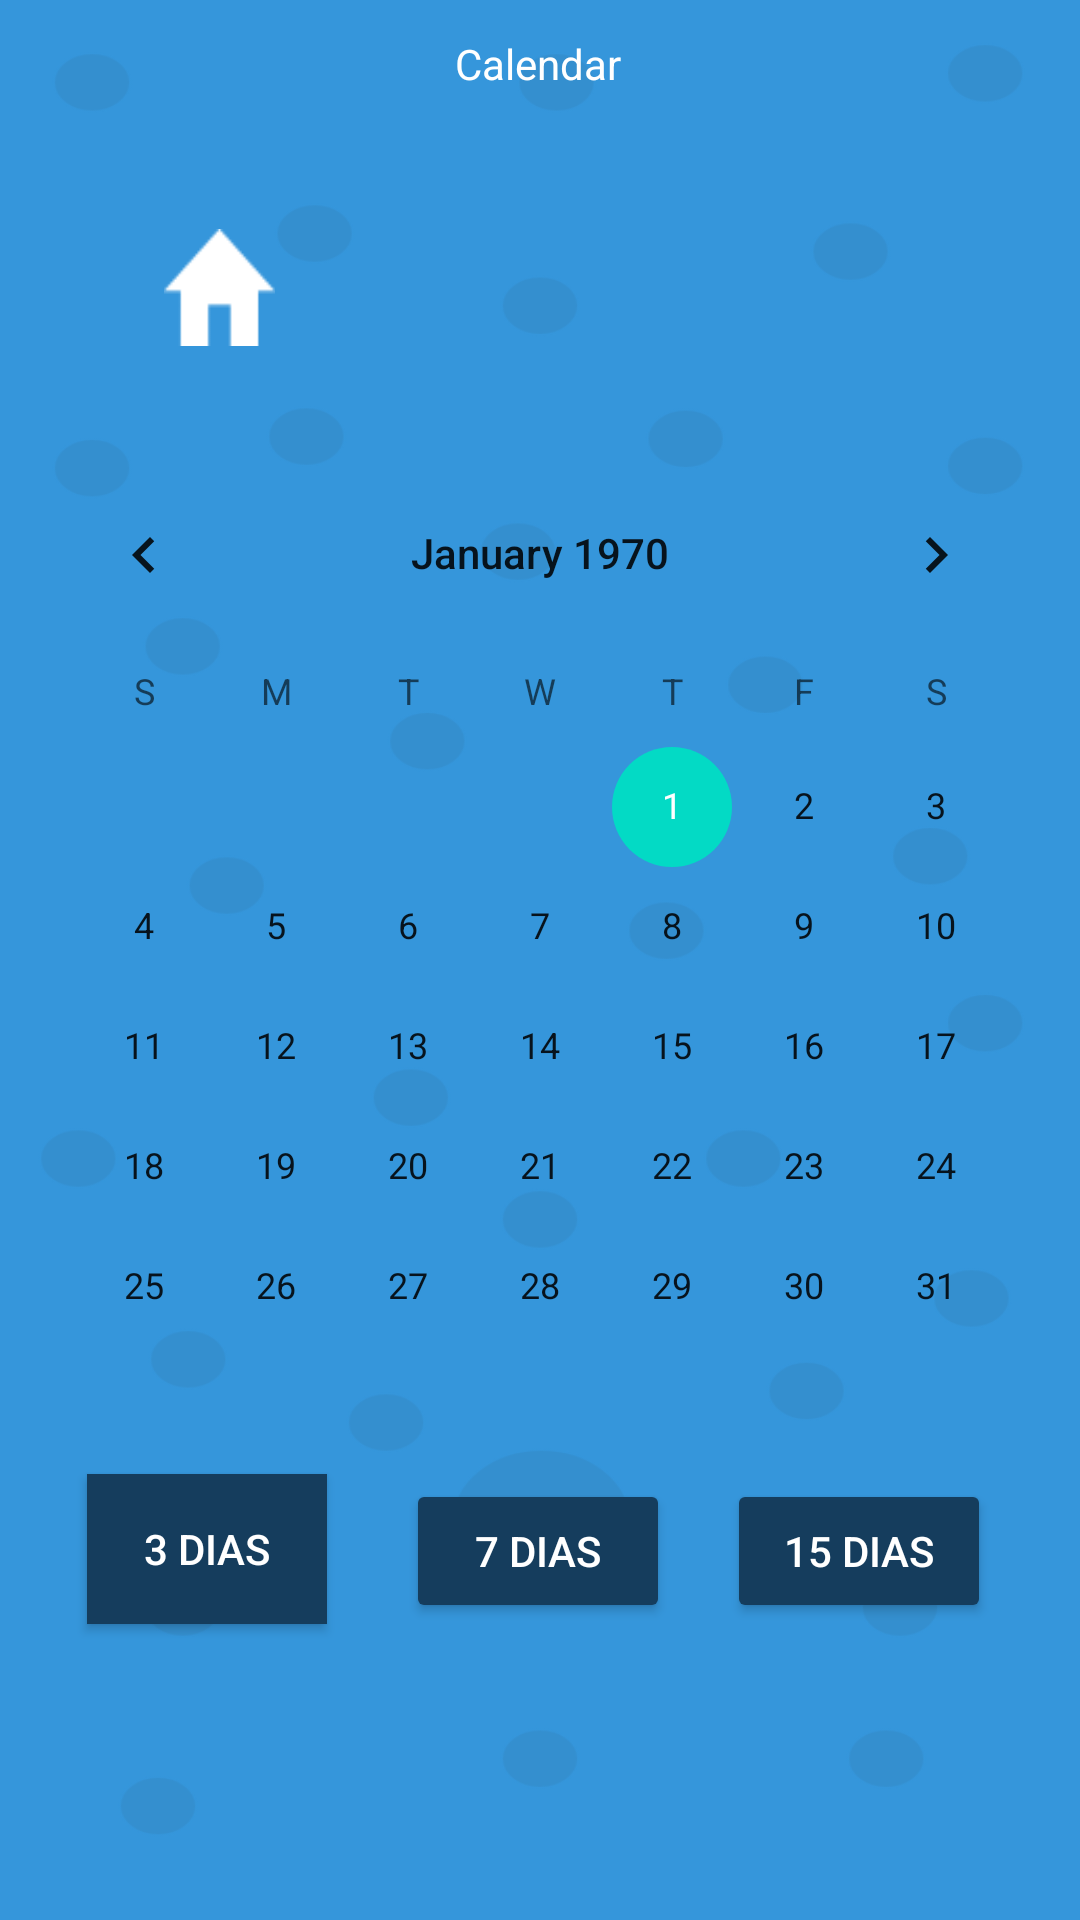

Where to tap for icons on this 1080*1920 app screen, as (x=x, y=y):
home: (x=219, y=287)
